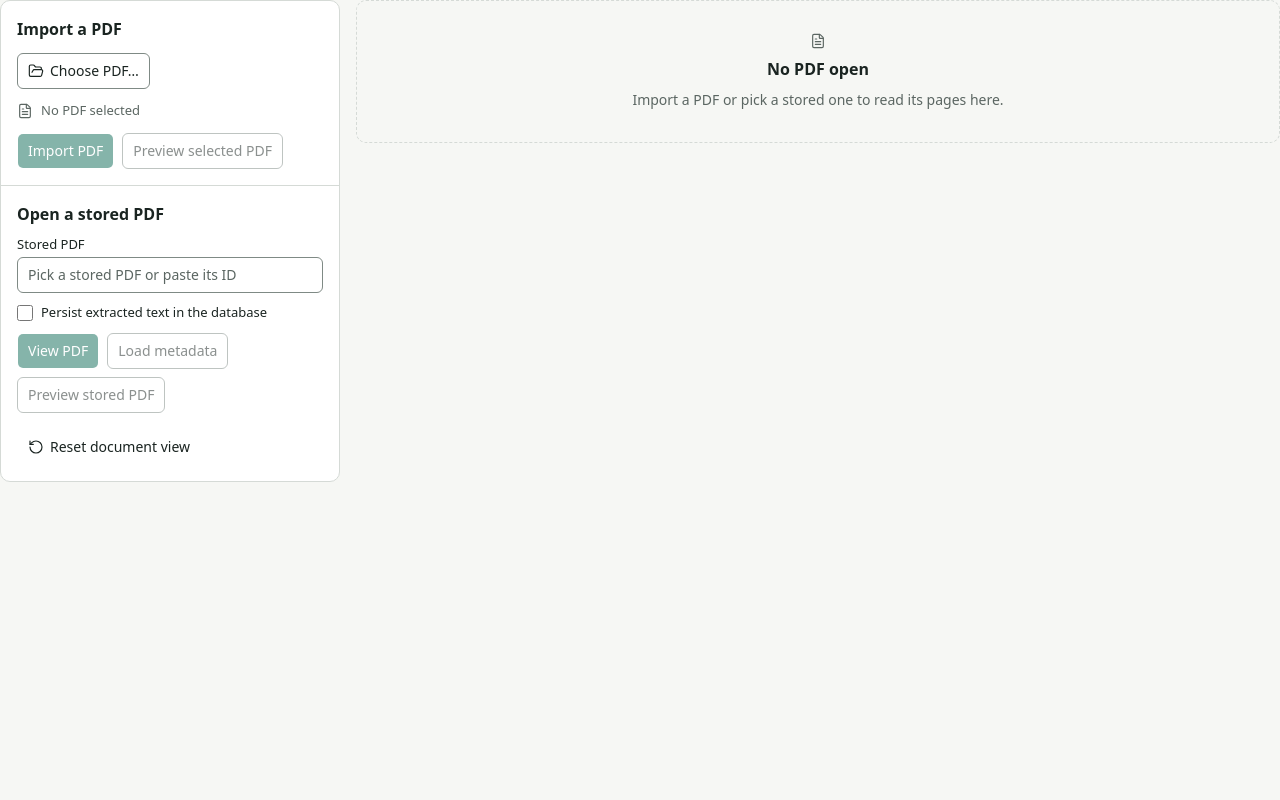
Test: documents page › shows the unavailable intro and disables the actions when no database is configured
In the dropdown labelled "Stored PDF": (170, 274) [17,256,323,292], type "00000000-0000-4000-8000-0000000000d1"
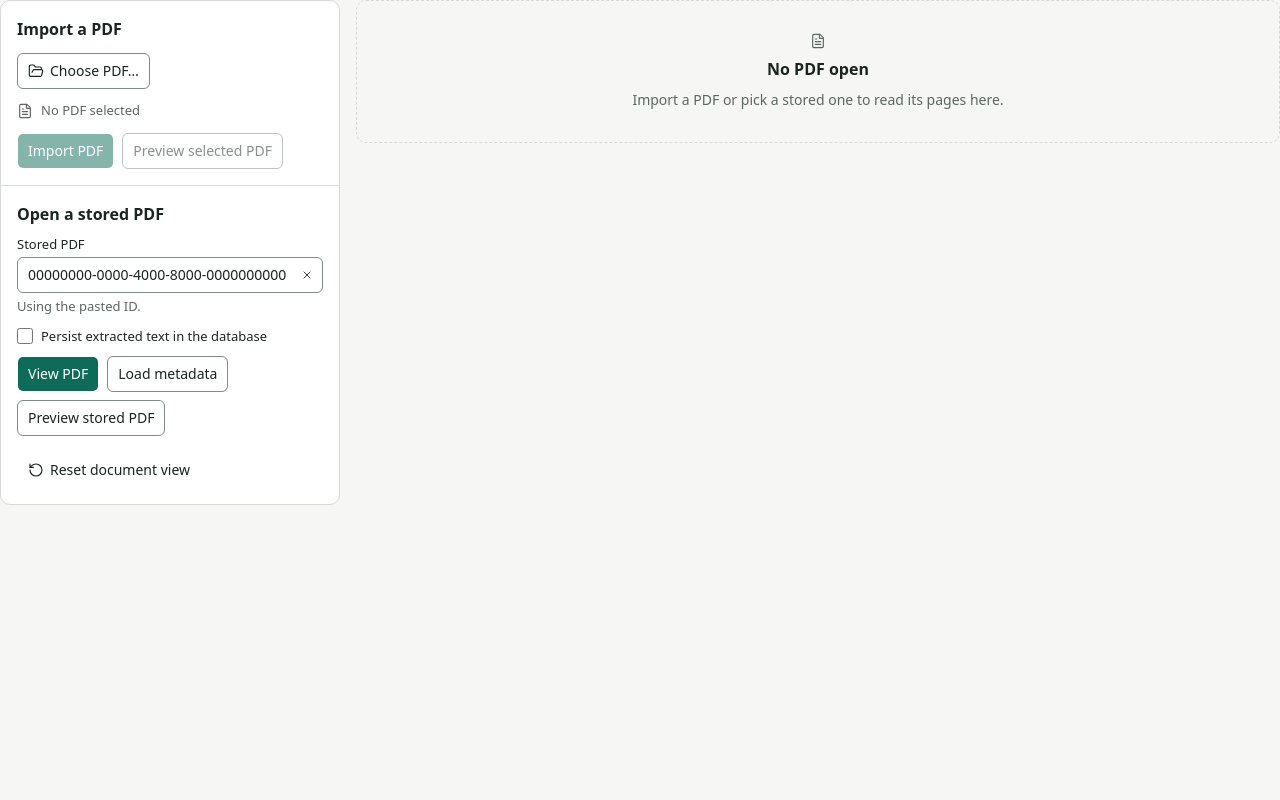
Click the button "Load metadata": (168, 374) [107,356,228,392]
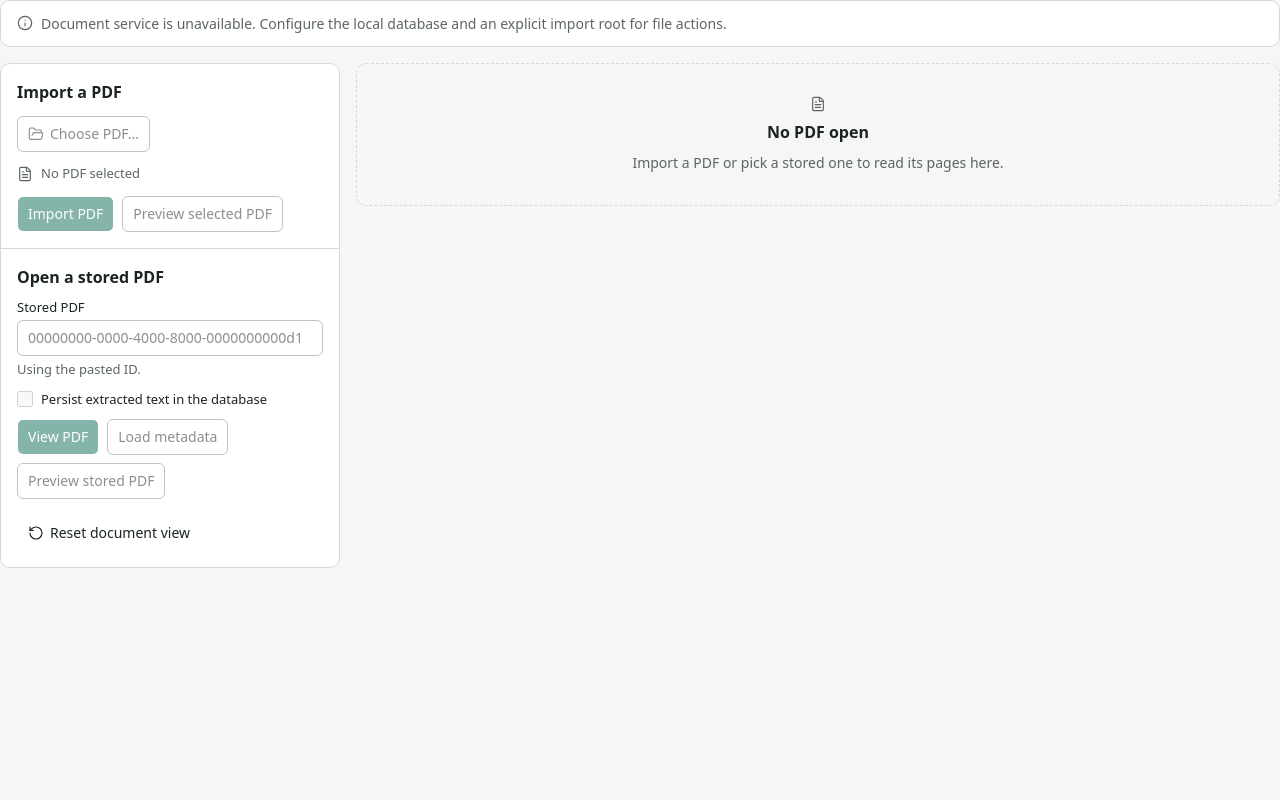
Expected: the text "Document service is unavailable. Configure the local database and an explicit import root for file actions." is shown, [41,14,727,33]
Expected: the button "Load metadata" is disabled, [107,419,228,455]
Expected: the dropdown labelled "Stored PDF" is disabled, [17,320,323,356]
